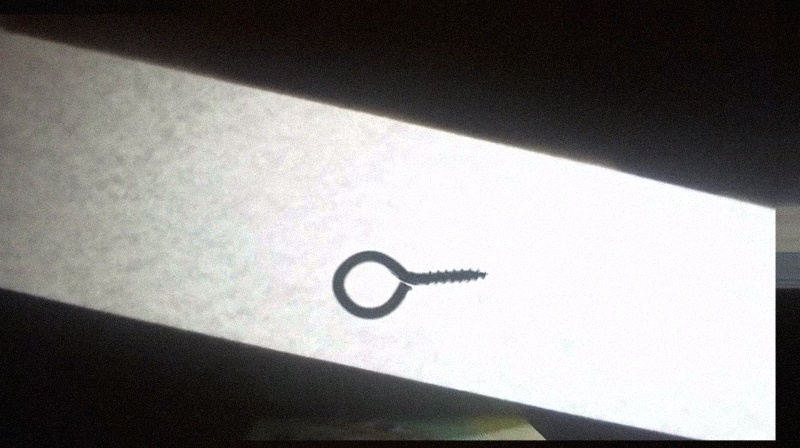O001: (328, 248, 492, 321)
